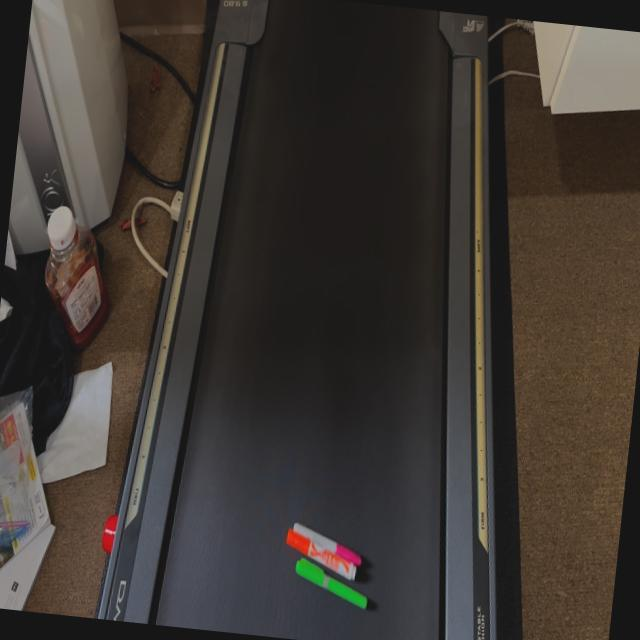Trash: (274, 514, 388, 620)
